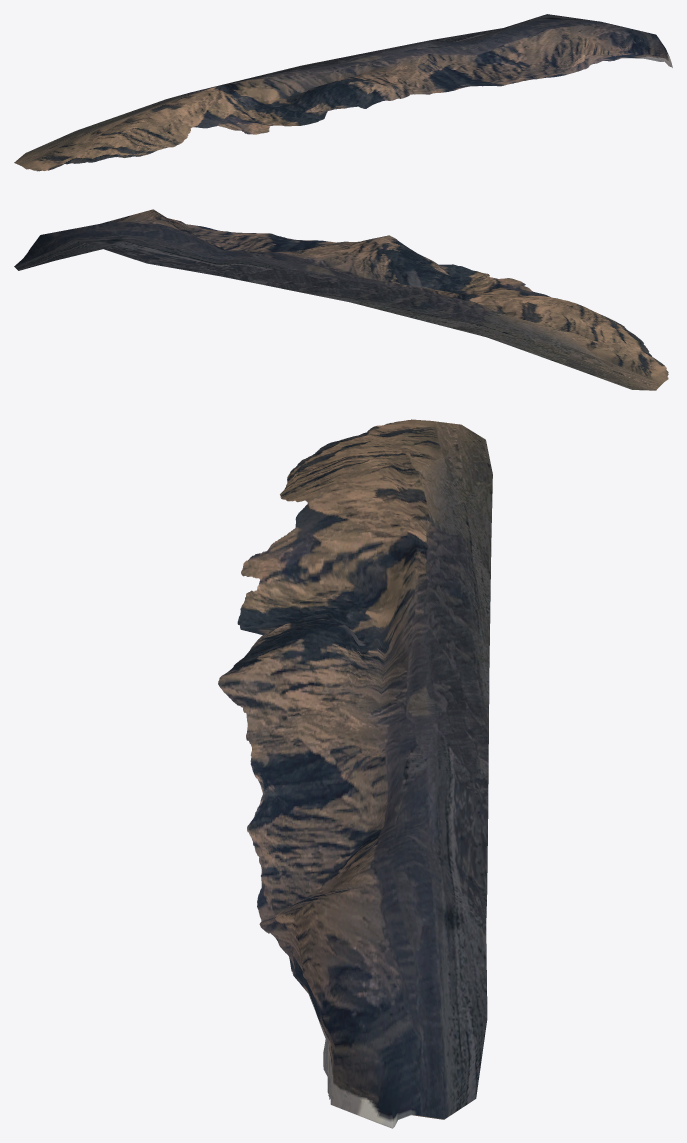
The model's file is p_rus_mountain_desert_b_LOD0.obj.
The picture shows the model from 3 angles, top to bottom: view 1: azimuth 30°, elevation 25°; view 2: azimuth 150°, elevation 25°; view 3: azimuth 270°, elevation 25°; orthographic projection. The views are drawn at different scales.
Parts seen in each view (by area): view 1: rus_dec_vista_mountains01_desert; view 2: rus_dec_vista_mountains01_desert; view 3: rus_dec_vista_mountains01_desert.
Part boxes in pixels (box(x1,y1,x2,y2)): rus_dec_vista_mountains01_desert: box(14, 14, 672, 171); rus_dec_vista_mountains01_desert: box(14, 209, 668, 390); rus_dec_vista_mountains01_desert: box(218, 419, 492, 1128).
Size of the model in its own units: 54857 by 6385 by 11097.
